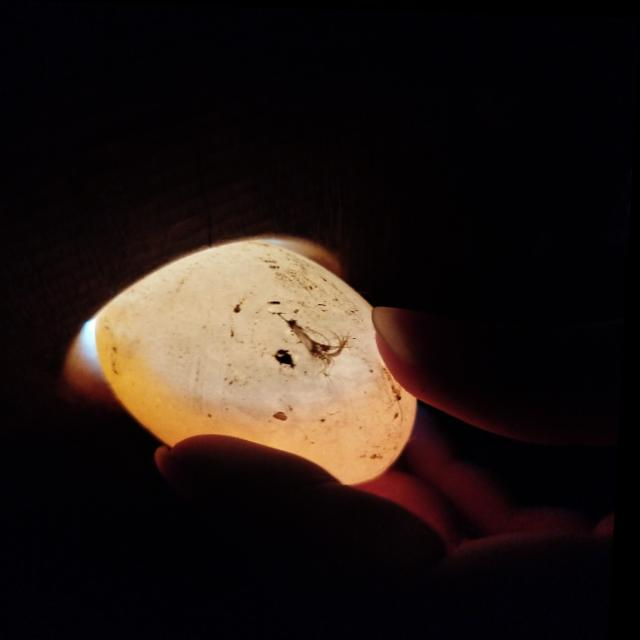Camara de Ar: (112, 239, 389, 404)
